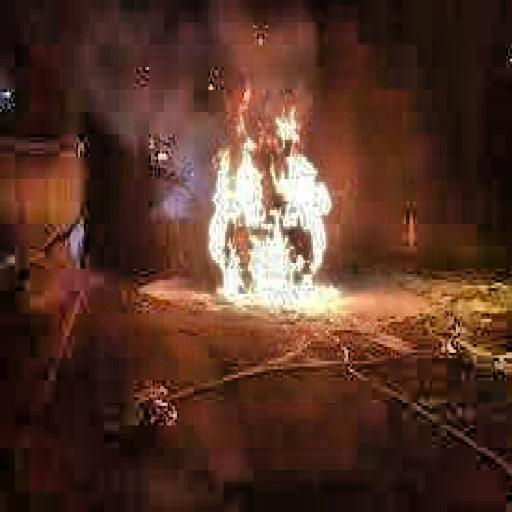fire: (205, 92, 352, 319)
